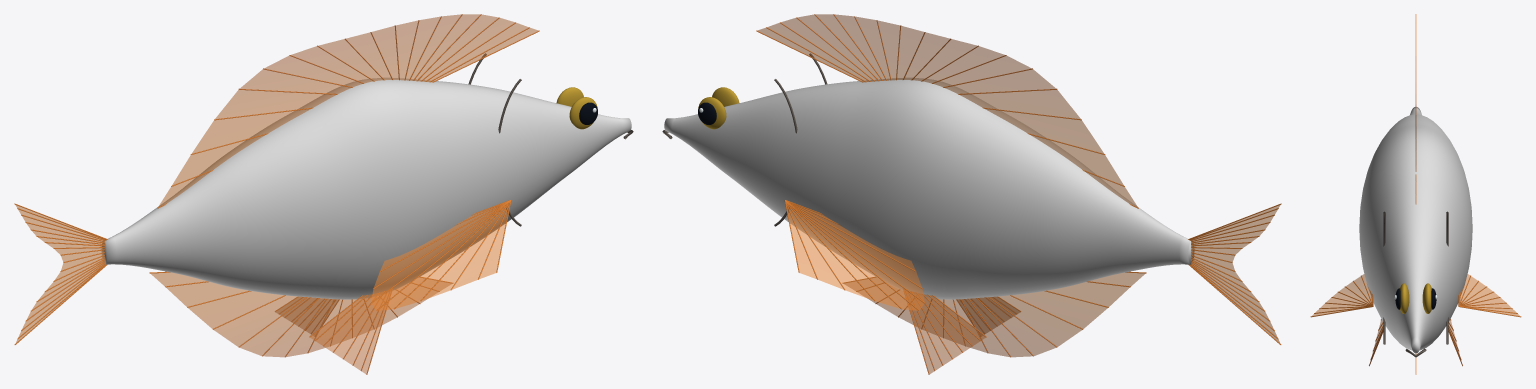
File: clown.glb
3 renders of one model, left to right at view 1: azimuth 30°, elevation 25°; view 2: azimuth 150°, elevation 25°; view 3: azimuth 270°, elevation 25°, orthographic. The views are drawn at different scales.
Visible parts, largest first — view 1: Amphiprion ocellaris sculpted body, dorsal sail, anal sail, pectoral -1, caudal fan, pelvic -1, pelvic 1; view 2: Amphiprion ocellaris sculpted body, dorsal sail, anal sail, pectoral 1, caudal fan, pelvic 1, pelvic -1; view 3: Amphiprion ocellaris sculpted body, pectoral 1, pectoral -1, iris 1, iris -1.
Boxes of the visible parts, bbox=[...] form: Amphiprion ocellaris sculpted body: bbox=[101, 77, 631, 299]; dorsal sail: bbox=[158, 14, 538, 207]; anal sail: bbox=[151, 272, 451, 357]; pectoral -1: bbox=[371, 206, 508, 310]; caudal fan: bbox=[15, 205, 104, 343]; pelvic -1: bbox=[310, 289, 391, 374]; pelvic 1: bbox=[276, 297, 338, 333]; Amphiprion ocellaris sculpted body: bbox=[664, 77, 1194, 299]; dorsal sail: bbox=[757, 14, 1137, 207]; anal sail: bbox=[844, 272, 1144, 357]; pectoral 1: bbox=[787, 206, 924, 310]; caudal fan: bbox=[1191, 205, 1280, 343]; pelvic 1: bbox=[904, 289, 985, 374]; pelvic -1: bbox=[957, 297, 1019, 333]; Amphiprion ocellaris sculpted body: bbox=[1359, 107, 1472, 353]; pectoral 1: bbox=[1459, 274, 1519, 315]; pectoral -1: bbox=[1312, 274, 1372, 315]; iris 1: bbox=[1422, 283, 1431, 313]; iris -1: bbox=[1400, 283, 1409, 313].
Bounding box in the file's own units: 1.65 × 0.8088 × 0.5417.
